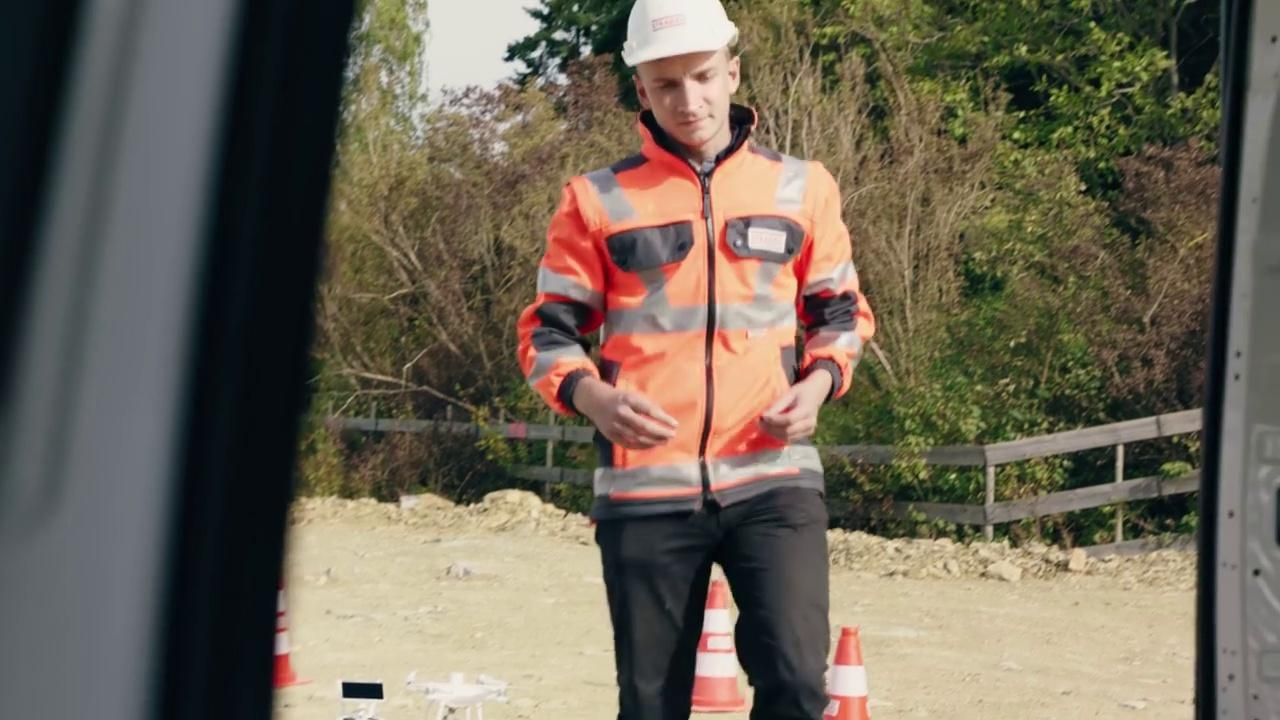drone: (402, 666, 520, 719)
